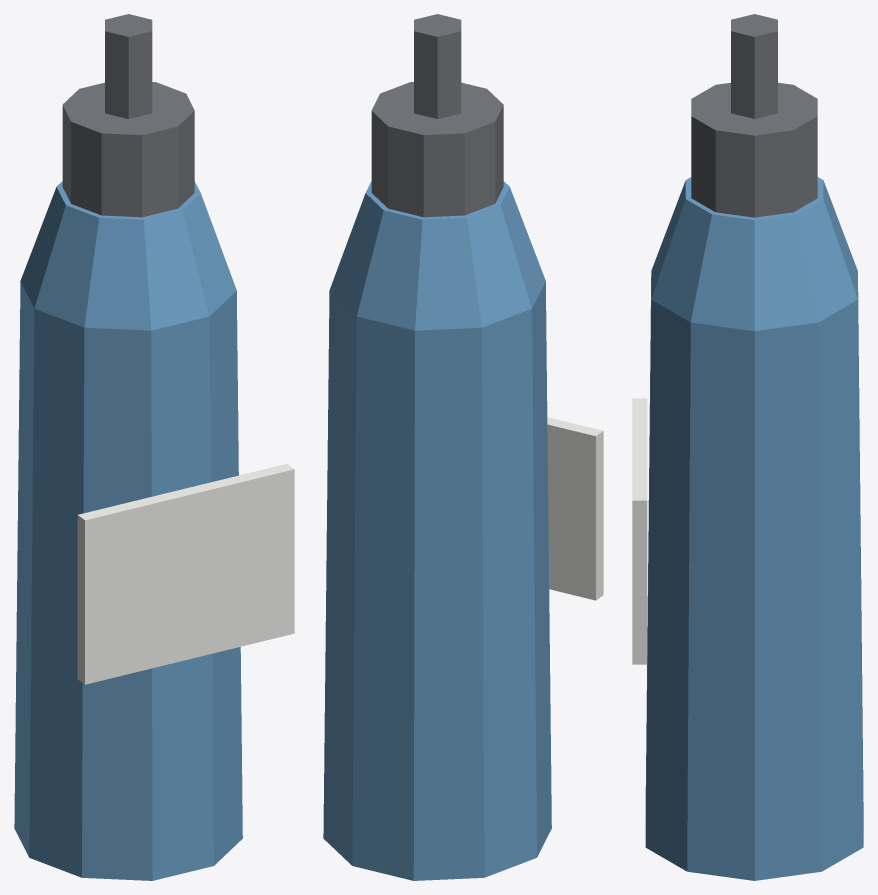
File: tennis-club-and-courts-water-bottle-abd2477f.glb
The picture shows the model from 3 angles, left to right: view 1: azimuth 30°, elevation 25°; view 2: azimuth 150°, elevation 25°; view 3: azimuth 270°, elevation 25°; orthographic projection.
Visible parts, largest first — view 1: water-bottle; view 2: water-bottle; view 3: water-bottle.
Part boxes in pixels (x1,y1,x2,y2): water-bottle: (14, 14, 294, 880); water-bottle: (323, 14, 603, 880); water-bottle: (632, 14, 863, 880).
Size of the model in its own units: 0.08 by 0.295 by 0.0766.
